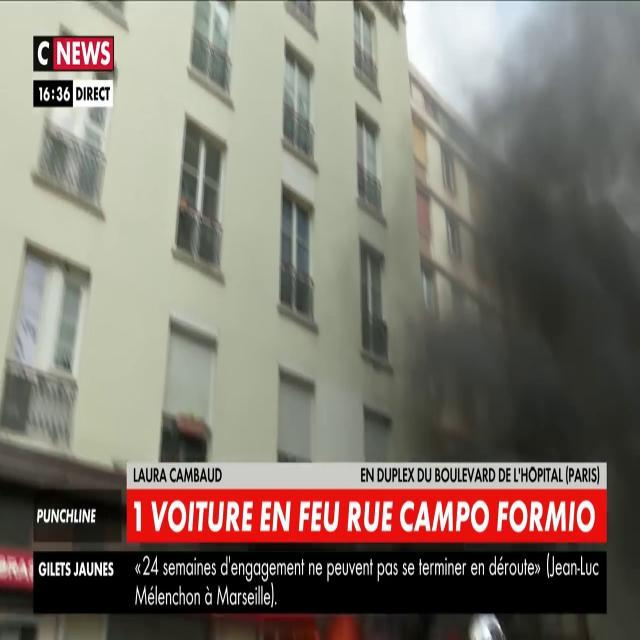Smoke: (401, 2, 640, 482)
